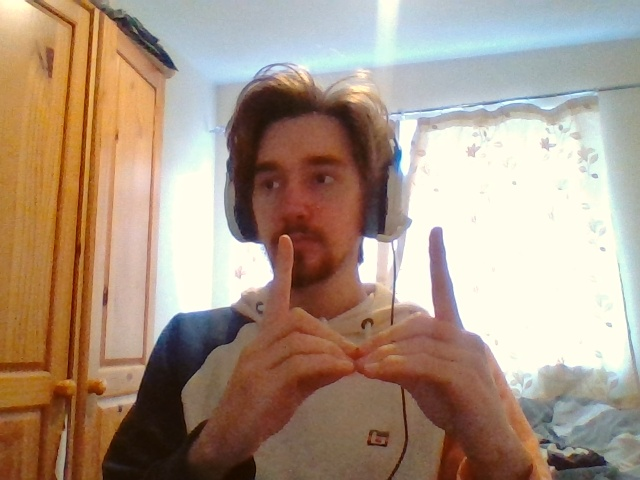meet: (246, 227, 459, 378)
